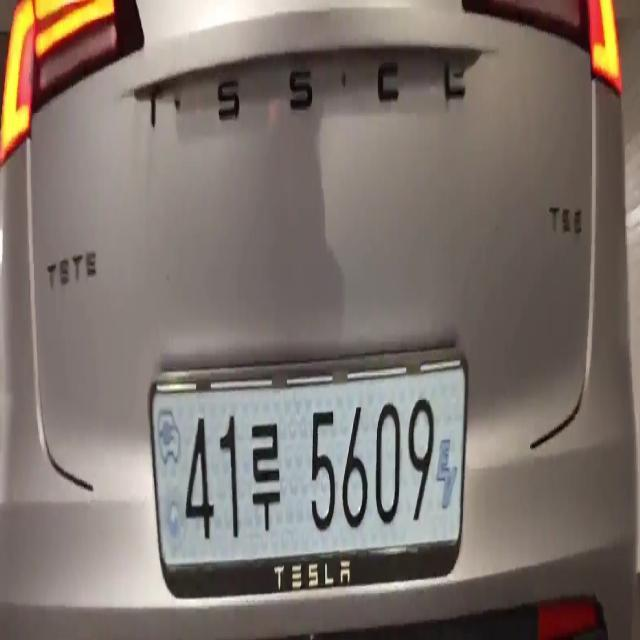car: (151, 358, 463, 554)
carev: (152, 388, 186, 559), (436, 390, 462, 546)
